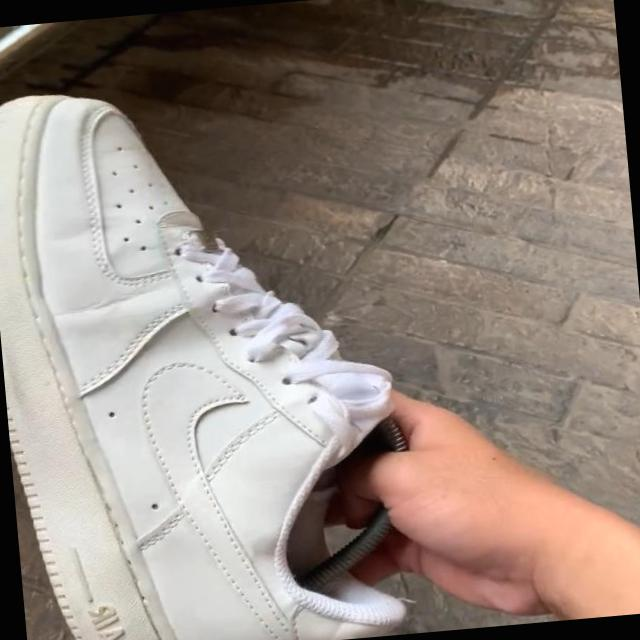nike_fake_airforce: (0, 57, 430, 640)
